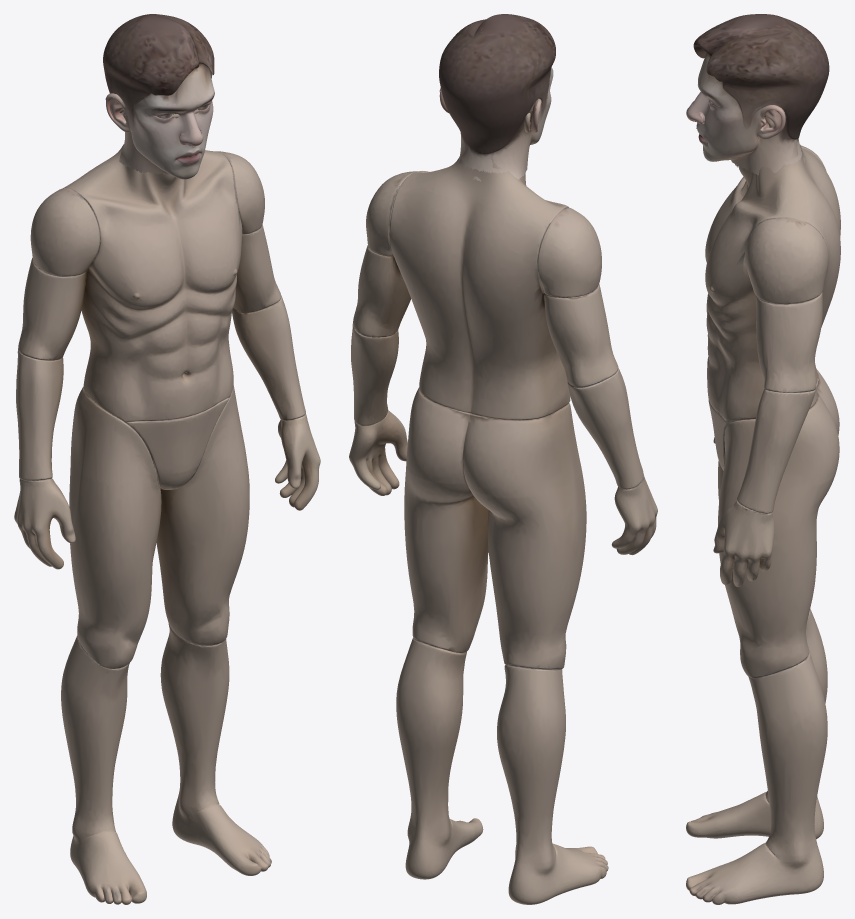
Rendered from daily.glb.
3 views of the same model, side by side, from view 1: azimuth 30°, elevation 25°; view 2: azimuth 150°, elevation 25°; view 3: azimuth 270°, elevation 25° (orthographic).
Parts seen in each view (by area): view 1: legs, abdomen, arms, chest, hair, hands, feet, toes, fingers, neck, ears; view 2: legs, abdomen, arms, chest, hair, feet, hands, neck, fingers, toes; view 3: legs, arms, hair, abdomen, chest, feet, toes, hands, neck, fingers, ears.
Boxes of the visible parts, left/top/right/bottom form: legs: left=61, top=448, right=249, bottom=838; abdomen: left=71, top=150, right=244, bottom=488; arms: left=16, top=151, right=307, bottom=488; chest: left=59, top=150, right=248, bottom=330; hair: left=103, top=14, right=214, bottom=179; hands: left=14, top=419, right=320, bottom=543; feet: left=70, top=794, right=252, bottom=891; toes: left=87, top=830, right=271, bottom=904; fingers: left=21, top=460, right=318, bottom=569; neck: left=104, top=144, right=182, bottom=188; ears: left=105, top=73, right=135, bottom=111; legs: left=396, top=465, right=586, bottom=865; abdomen: left=397, top=167, right=581, bottom=498; arms: left=351, top=171, right=644, bottom=487; chest: left=384, top=171, right=572, bottom=342; hair: left=439, top=14, right=555, bottom=181; feet: left=405, top=819, right=596, bottom=904; hands: left=349, top=411, right=657, bottom=536; neck: left=433, top=157, right=526, bottom=210; fingers: left=354, top=455, right=656, bottom=555; toes: left=456, top=818, right=608, bottom=883; legs: left=718, top=458, right=835, bottom=856; arms: left=732, top=145, right=828, bottom=514; hair: left=691, top=14, right=829, bottom=175; abdomen: left=706, top=149, right=839, bottom=491; chest: left=705, top=146, right=840, bottom=334; feet: left=734, top=794, right=823, bottom=903; toes: left=686, top=805, right=739, bottom=904; hands: left=714, top=437, right=774, bottom=563; neck: left=722, top=144, right=818, bottom=196; fingers: left=713, top=438, right=771, bottom=586; ears: left=748, top=89, right=785, bottom=116.
Bounding box in the file's own units: 0.6429 × 1.77 × 0.2945.
